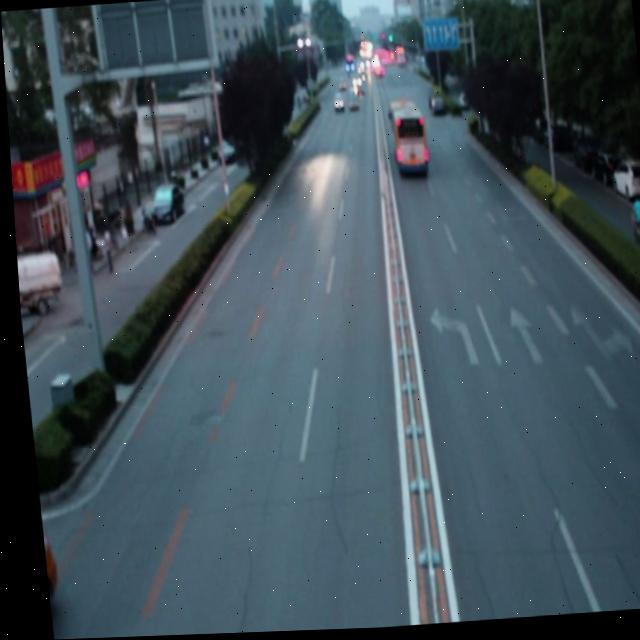van: (386, 101, 426, 178)
